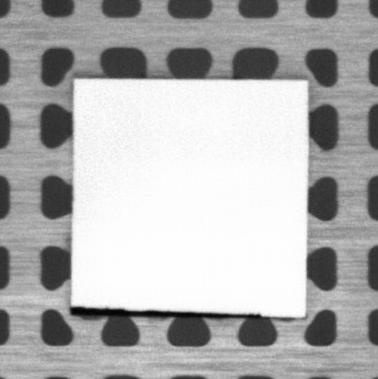DIE_BROKEN: (70, 304, 264, 318)
